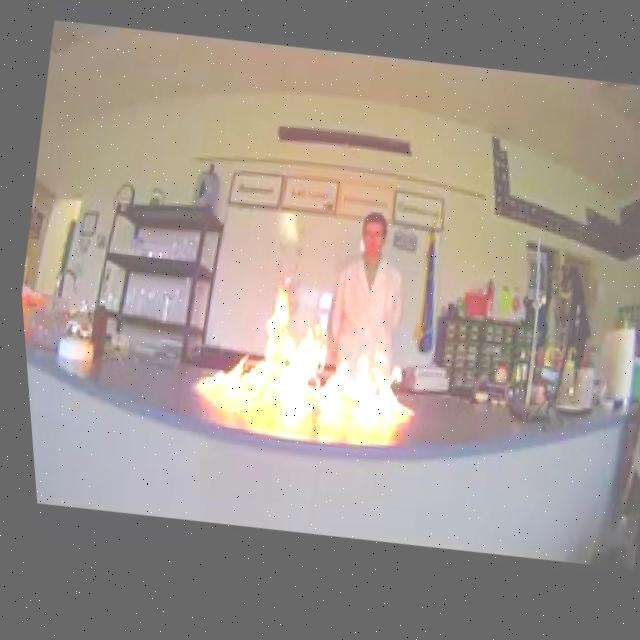Fire: (175, 250, 434, 442)
